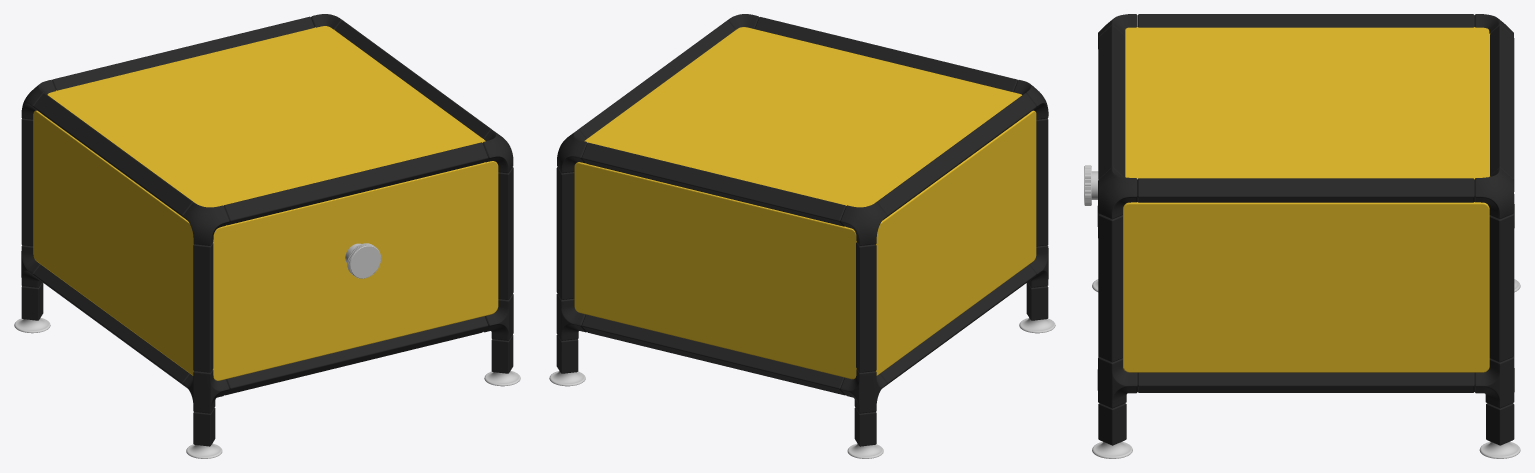
3 renders of one model, left to right at view 1: azimuth 30°, elevation 25°; view 2: azimuth 150°, elevation 25°; view 3: azimuth 270°, elevation 25°, orthographic. The views are drawn at different scales.
Parts seen in each view (by area): view 1: 329x329x154; view 2: 329x329x154; view 3: 329x329x154.
Part boxes in pixels (<box>): 329x329x154: <box>14,14,520,458</box>; 329x329x154: <box>549,14,1055,458</box>; 329x329x154: <box>1084,14,1520,458</box>.
Size of the model in its own units: 0.4189 by 0.2933 by 0.4257.
